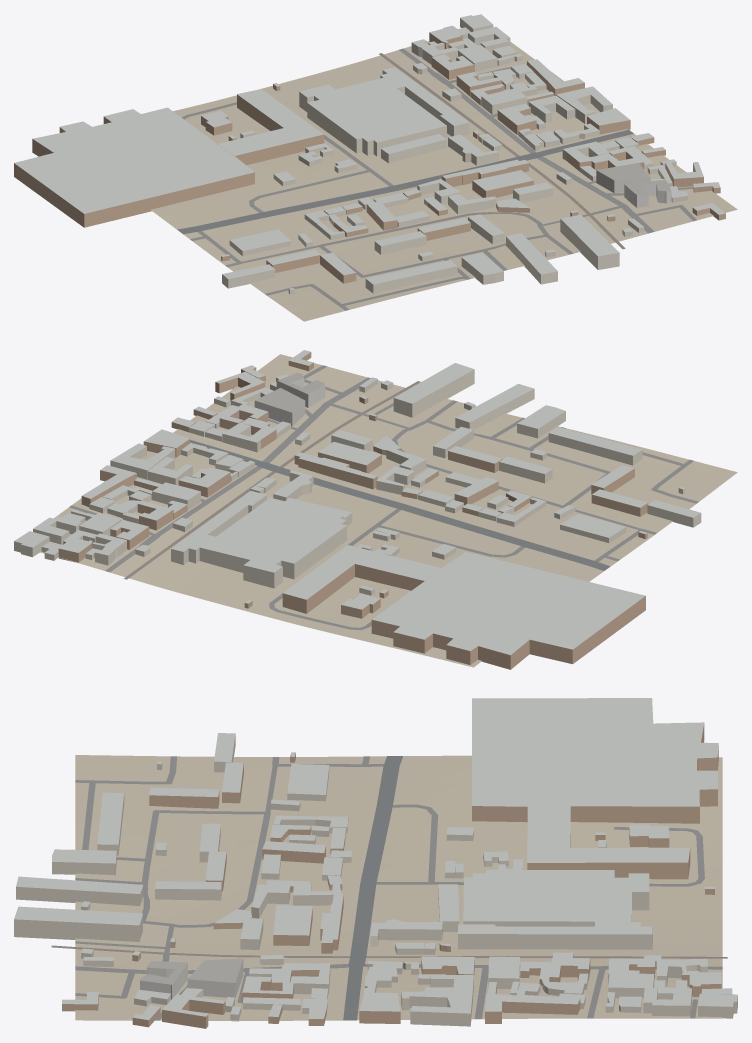
File: bolak_-14_-3.glb
3 views of the same model, one above another, from view 1: azimuth 30°, elevation 25°; view 2: azimuth 150°, elevation 25°; view 3: azimuth 270°, elevation 25° (orthographic). The views are drawn at different scales.
Visible parts, largest first — view 1: Tom_Shifer, Yer_Tuproq-col, Devor_Suvoq-col, Devor_Gisht-col, Yol_Mahalla-col, Yol_Asfalt-col, Devor_Dokon-col, Tom_Tekis, Temir_Yol; view 2: Tom_Shifer, Yer_Tuproq-col, Devor_Suvoq-col, Devor_Gisht-col, Yol_Mahalla-col, Yol_Asfalt-col, Devor_Dokon-col, Tom_Tekis, Temir_Yol; view 3: Tom_Shifer, Yer_Tuproq-col, Devor_Suvoq-col, Devor_Gisht-col, Yol_Mahalla-col, Yol_Asfalt-col, Devor_Dokon-col, Tom_Tekis, Temir_Yol.
Part boxes in pixels (x1,y1,x2,y2): Tom_Shifer: [14, 14, 725, 289]; Yer_Tuproq-col: [150, 41, 737, 321]; Devor_Suvoq-col: [222, 18, 687, 294]; Devor_Gisht-col: [14, 32, 725, 283]; Yol_Mahalla-col: [181, 48, 696, 310]; Yol_Asfalt-col: [177, 129, 633, 234]; Devor_Dokon-col: [596, 170, 671, 207]; Tom_Tekis: [596, 163, 671, 194]; Temir_Yol: [379, 53, 625, 249]; Tom_Shifer: [14, 350, 700, 655]; Yer_Tuproq-col: [40, 354, 737, 667]; Devor_Suvoq-col: [14, 369, 701, 595]; Devor_Gisht-col: [58, 352, 648, 669]; Yol_Mahalla-col: [69, 365, 698, 629]; Yol_Asfalt-col: [190, 440, 610, 570]; Devor_Dokon-col: [254, 378, 325, 426]; Tom_Tekis: [255, 372, 324, 412]; Temir_Yol: [124, 381, 420, 579]; Tom_Shifer: [14, 698, 737, 1020]; Yer_Tuproq-col: [75, 755, 722, 1020]; Devor_Suvoq-col: [14, 734, 737, 1026]; Devor_Gisht-col: [62, 724, 721, 1028]; Yol_Mahalla-col: [75, 756, 722, 1020]; Yol_Asfalt-col: [343, 756, 403, 1020]; Devor_Dokon-col: [140, 959, 243, 999]; Tom_Tekis: [140, 958, 242, 984]; Temir_Yol: [51, 945, 727, 958].
Size of what is drawn, in the model's own units: 471 by 16.99 by 447.
